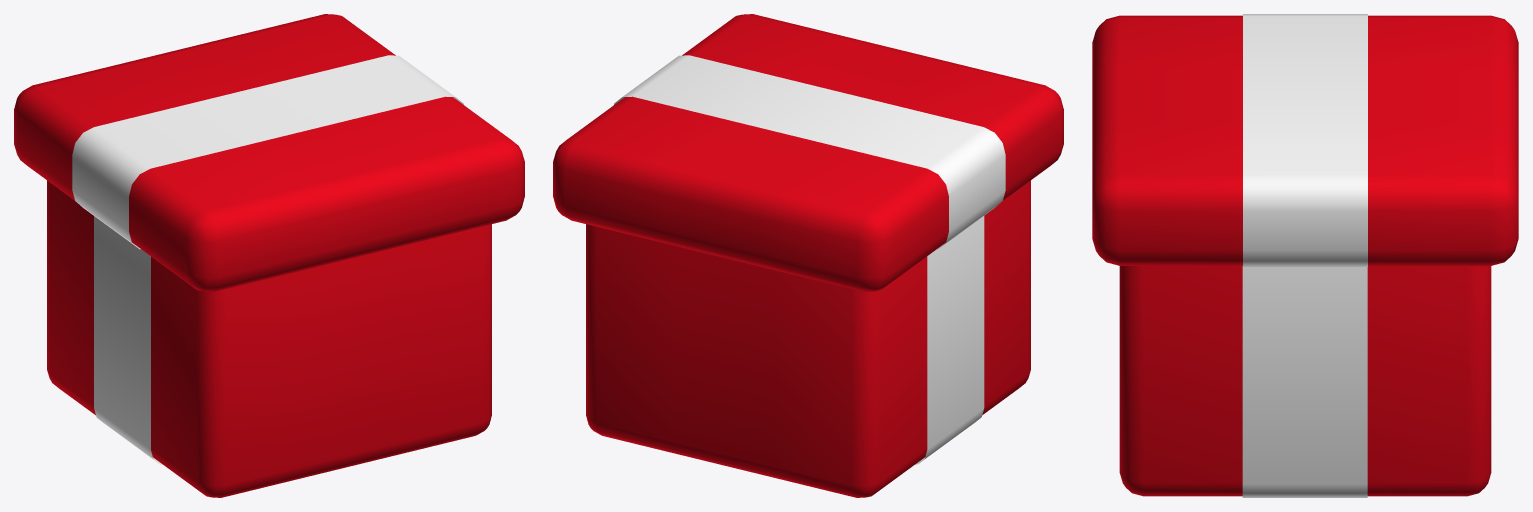
Rendered from Present.fbx.
3 views of the same model, side by side, from view 1: azimuth 30°, elevation 25°; view 2: azimuth 150°, elevation 25°; view 3: azimuth 270°, elevation 25° (orthographic). The views are drawn at different scales.
Visible parts, largest first — view 1: Present, Ribbon.001; view 2: Present, Ribbon.001; view 3: Present, Ribbon.001.
Part boxes in pixels (<box>): Present: <box>14,14,524,497</box>; Ribbon.001: <box>72,55,463,464</box>; Present: <box>553,14,1063,497</box>; Ribbon.001: <box>614,55,1005,464</box>; Present: <box>1092,15,1518,496</box>; Ribbon.001: <box>1242,14,1367,497</box>.
Size of the model in its own units: 231 by 197 by 229.
